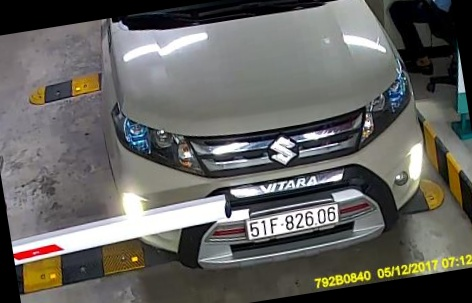plate: (240, 200, 343, 240)
